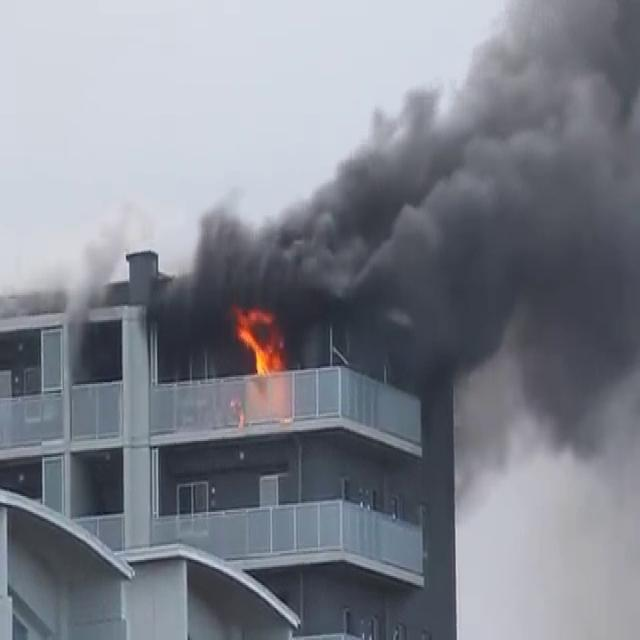Fire: (232, 301, 284, 376)
Smoke: (157, 1, 640, 426)
